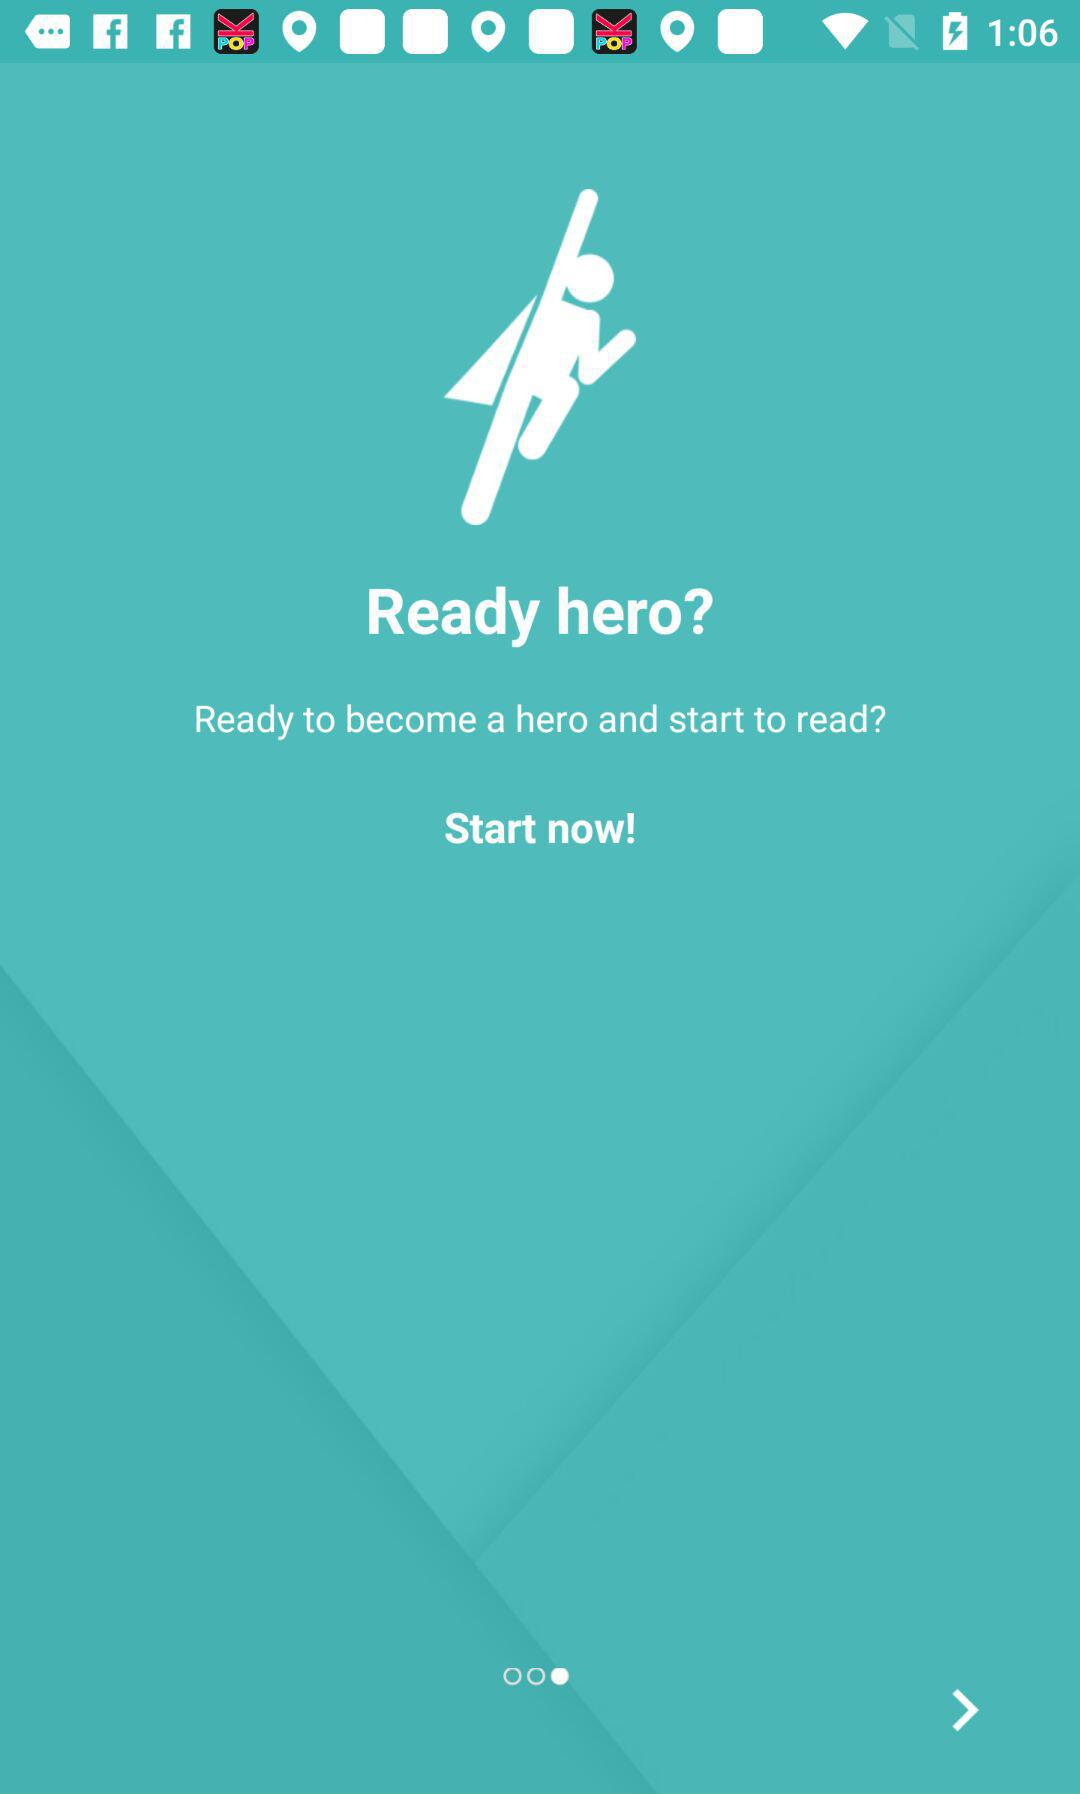Icon: (951, 1688, 980, 1732)
Image: (445, 188, 637, 525)
PageIndicator: (503, 1667, 571, 1686)
Text: (196, 704, 887, 742), (368, 586, 715, 650), (445, 812, 635, 846)
UpperTaskBar: (1, 1, 1080, 64)
